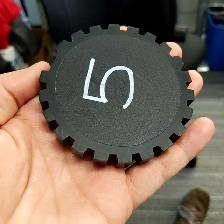gear: (37, 22, 196, 168)
missing: (39, 39, 69, 87)
